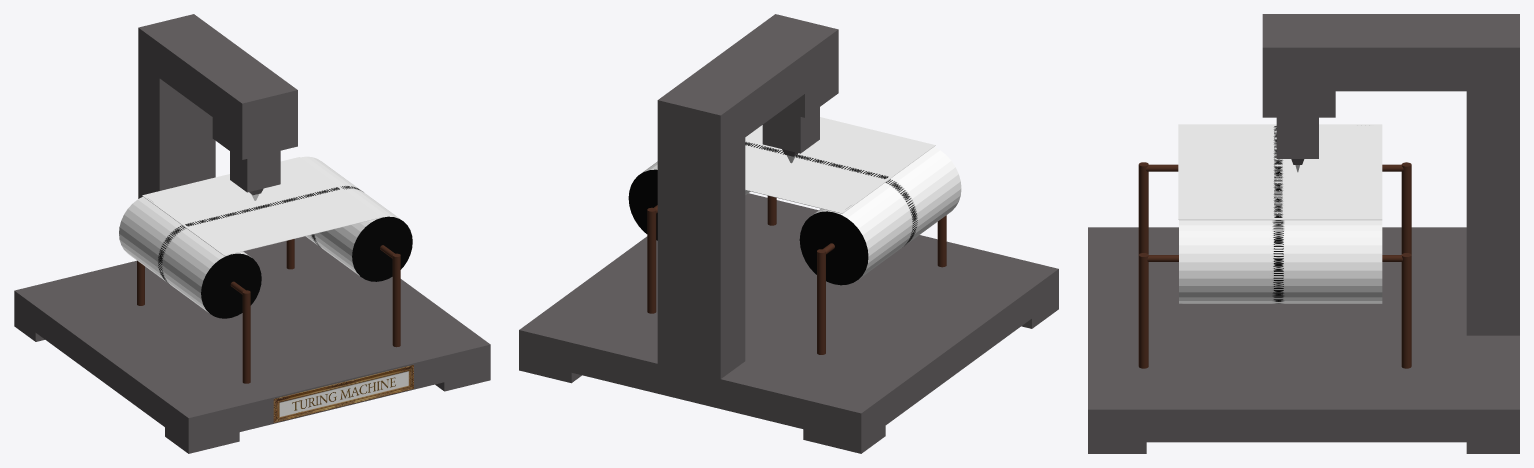
Rendered from TuringMachine_19_May.fbx.
3 renders of one model, left to right at view 1: azimuth 30°, elevation 25°; view 2: azimuth 150°, elevation 25°; view 3: azimuth 270°, elevation 25°, orthographic. The views are drawn at different scales.
Visible parts, largest first — view 1: Cube, Plane, Rolle Links TM, Rolle Rechts TM, Label, Stick_front_left, Stick_front_right; view 2: Cube, Rolle Links TM, Plane, Rolle Rechts TM, Stick_back_right, Stick_back_left; view 3: Cube, Plane, Rolle Rechts TM, Stick_front_right, Stick_back_right, Stick_front_left, Stick_back_left.
Part boxes in pixels (box(x1,y1,x2,y2)): Cube: box(14, 14, 490, 453); Plane: box(142, 157, 381, 255); Rolle Links TM: box(119, 196, 261, 318); Rolle Rechts TM: box(301, 156, 412, 281); Label: box(273, 365, 413, 422); Stick_front_left: box(242, 290, 250, 383); Stick_front_right: box(392, 253, 400, 347); Cube: box(519, 14, 1058, 453); Rolle Links TM: box(799, 147, 961, 285); Plane: box(745, 117, 935, 213); Rolle Rechts TM: box(628, 161, 750, 240); Stick_back_right: box(647, 207, 656, 313); Stick_back_left: box(817, 249, 825, 354); Cube: box(1088, 14, 1519, 453); Plane: box(1178, 124, 1382, 219); Rolle Rechts TM: box(1179, 220, 1382, 303); Stick_front_right: box(1138, 253, 1148, 368); Stick_back_right: box(1401, 253, 1411, 368); Stick_front_left: box(1138, 162, 1148, 254); Stick_back_left: box(1401, 162, 1411, 254).
Size of the model in its own units: 200 by 170 by 200.
Materials: 16 (4 with a texture image).
